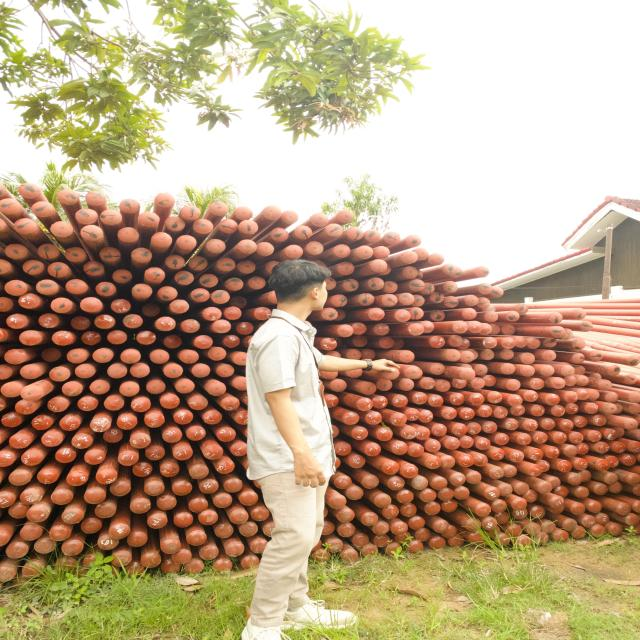nohelmet: (266, 252, 338, 322)
